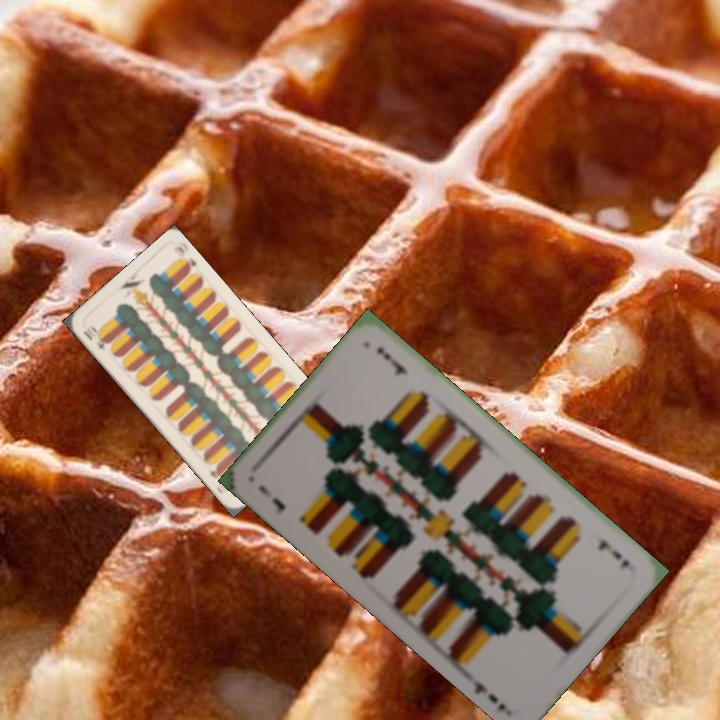E10: (87, 322, 111, 354)
E7: (592, 532, 633, 573), (254, 481, 288, 516)
